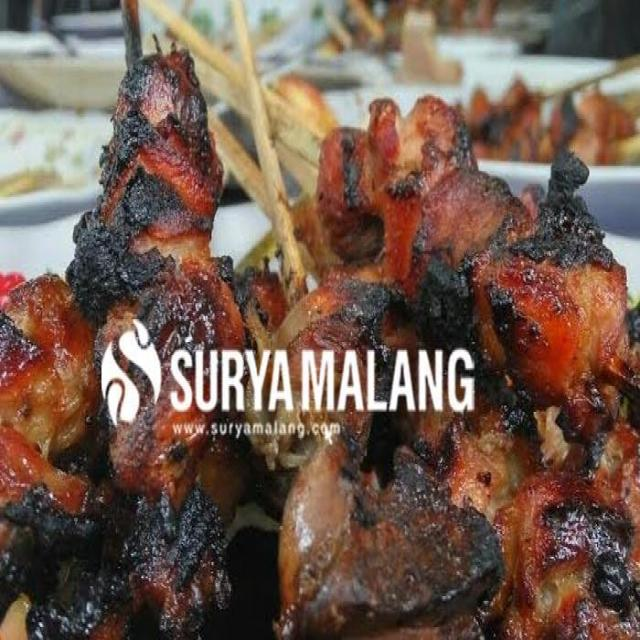Sate: (27, 24, 637, 568)
